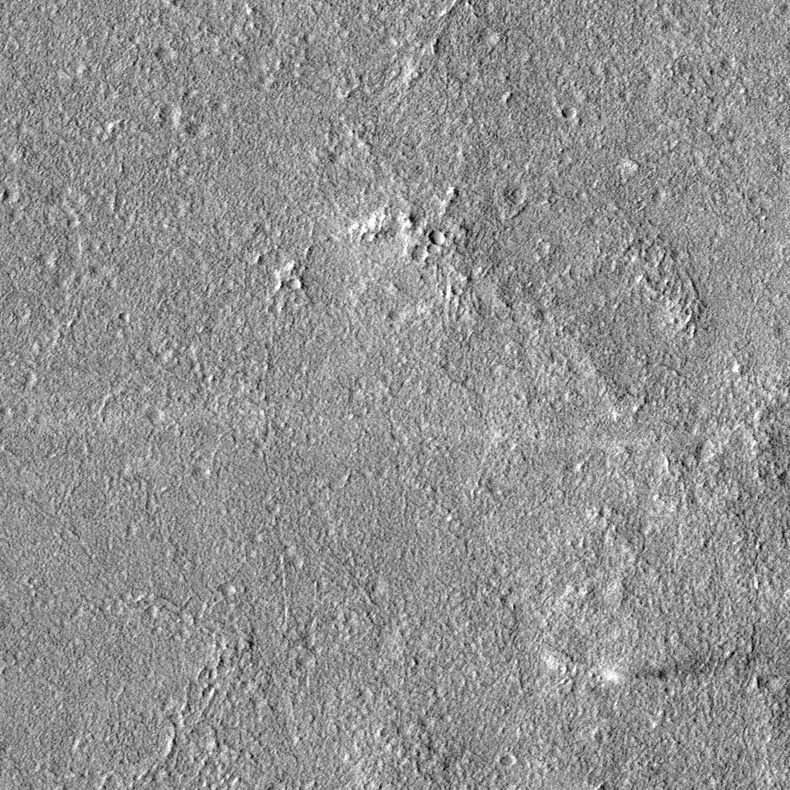dust_devil: (595, 648, 727, 693)
